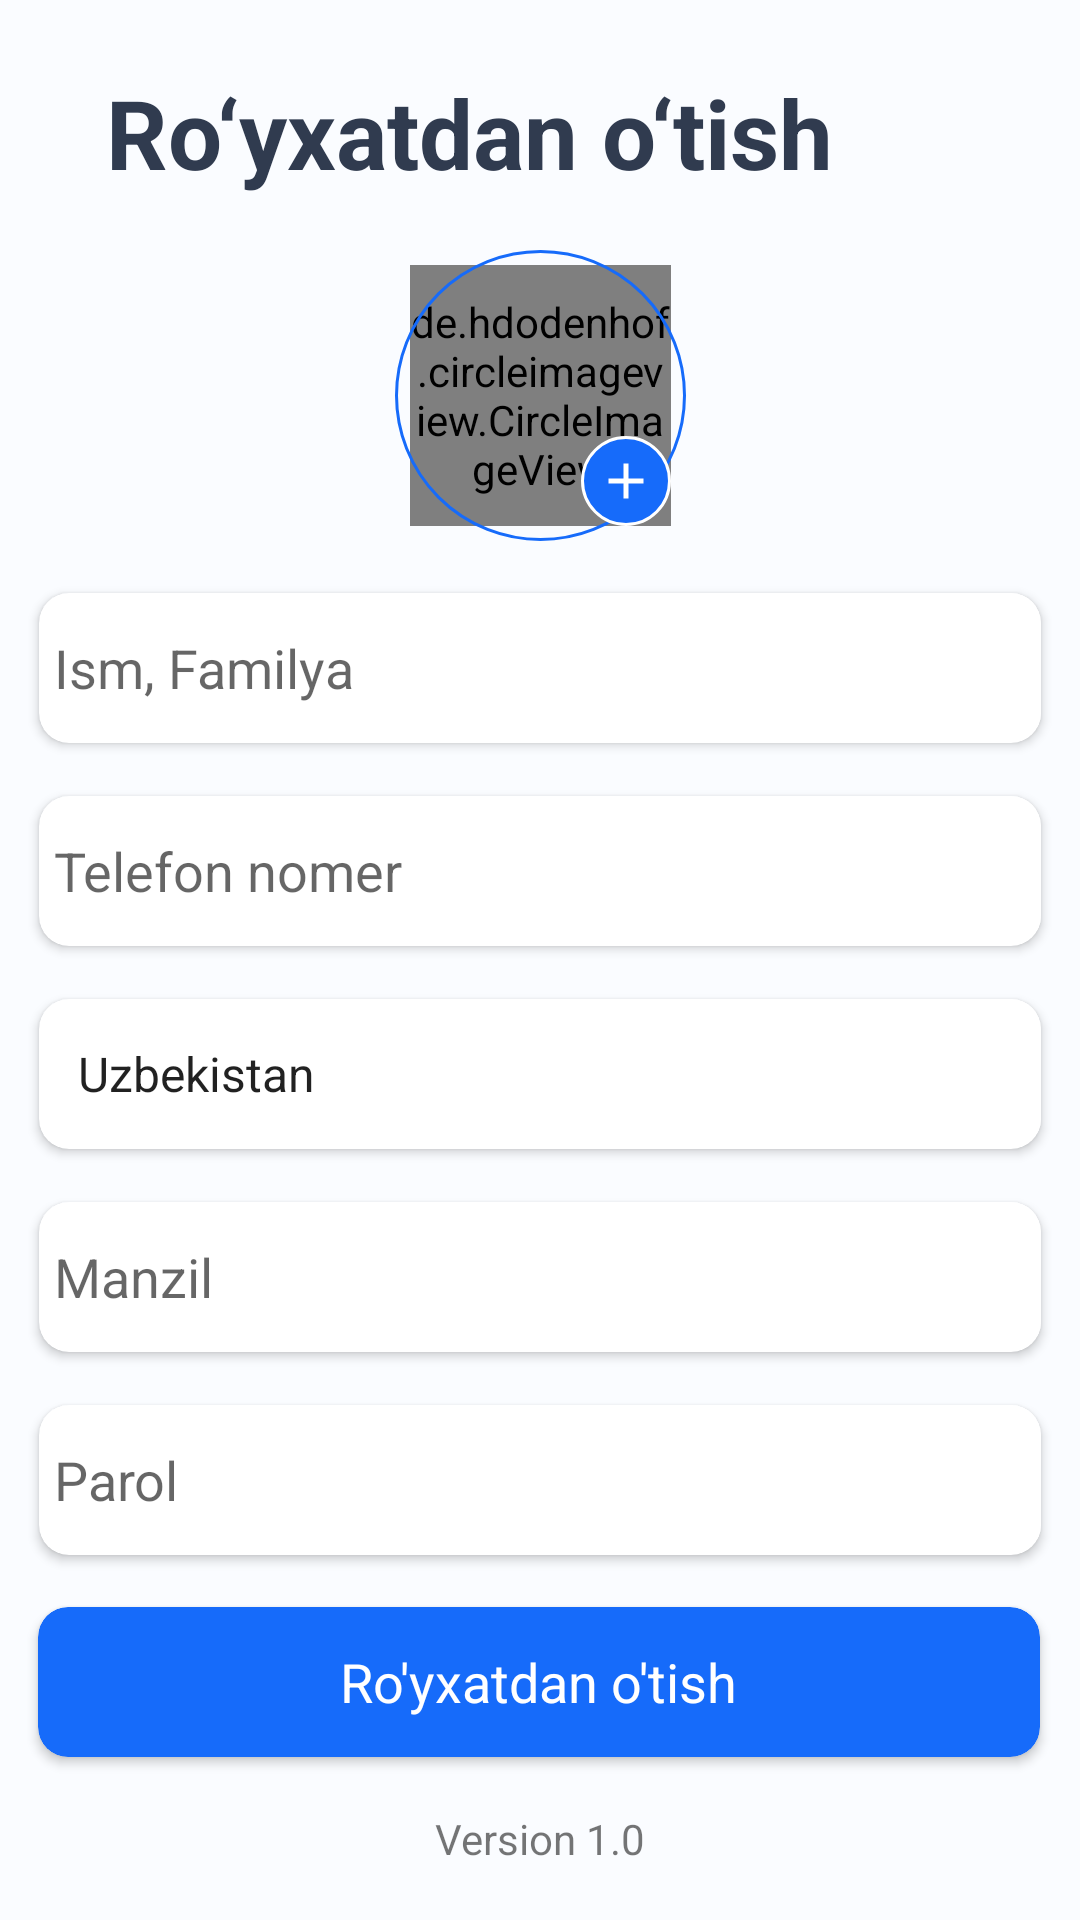

Named icons in this screenshot (1080px x 1920px) and their centers, (x=x, y=y):
pluss: (x=626, y=481)
